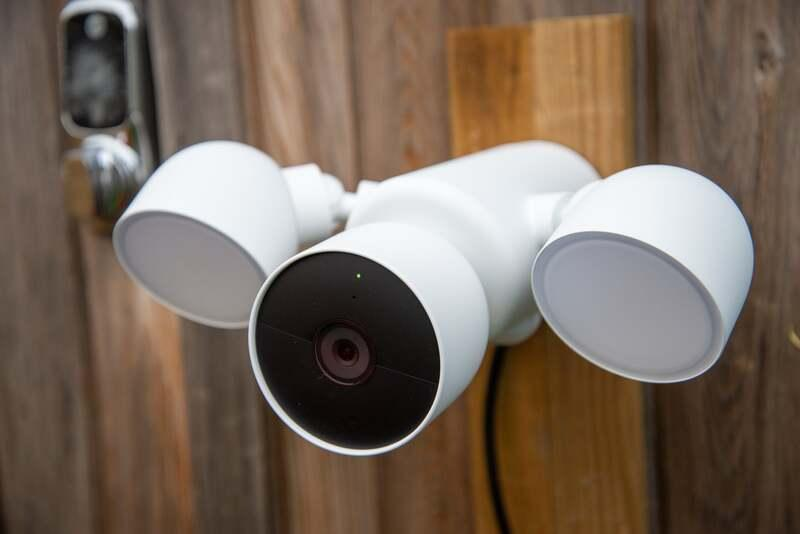nest: (236, 225, 496, 454)
